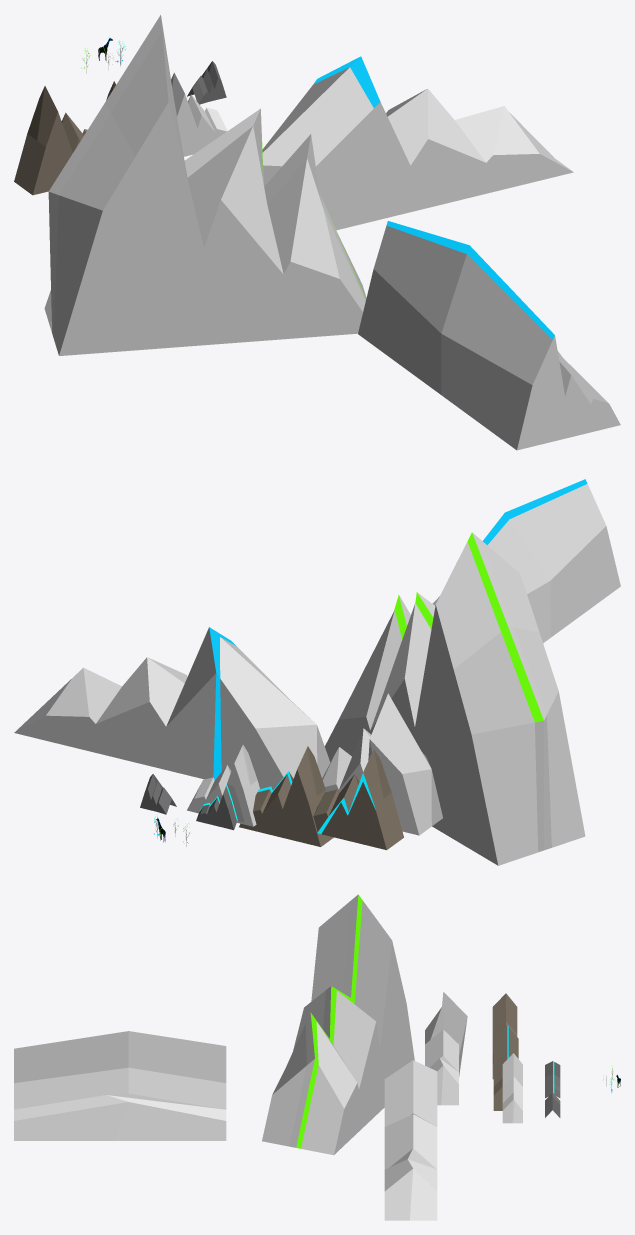
File: fantasy_Low_poly_scene_.glb
The picture shows the model from 3 angles, top to bottom: view 1: azimuth 30°, elevation 25°; view 2: azimuth 150°, elevation 25°; view 3: azimuth 270°, elevation 25°; orthographic projection. The views are drawn at different scales.
Parts seen in each view (by area): view 1: Cube.006, Cube.007, Cube.003, Cube.004, Cube.001, Cube; view 2: Cube.006, Cube.003, Cube.007, Cube.005, Cube.004, Cube.002, Cube.001, Cube; view 3: Cube.006, Cube.007, Cube.003, Cube.005, Cube.001, Cube.002, Cube.004, Cube.
Part boxes in pixels (box(x1,y1,x2,y2)): Cube.006: box(44, 15, 366, 355); Cube.007: box(358, 221, 620, 450); Cube.003: box(262, 56, 573, 230); Cube.004: box(14, 86, 87, 195); Cube.001: box(171, 72, 227, 156); Cube: box(187, 61, 226, 104); Cube.006: box(324, 532, 585, 865); Cube.003: box(14, 627, 330, 789); Cube.007: box(432, 479, 620, 643); Cube.005: box(322, 693, 442, 835); Cube.004: box(313, 749, 403, 850); Cube.002: box(239, 746, 333, 846); Cube.001: box(187, 745, 259, 826); Cube: box(140, 774, 244, 830); Cube.006: box(262, 894, 414, 1155); Cube.007: box(14, 1031, 226, 1140); Cube.003: box(384, 1060, 437, 1220); Cube.005: box(425, 992, 467, 1105); Cube.001: box(502, 1053, 522, 1123); Cube.002: box(493, 1025, 518, 1110); Cube.004: box(492, 993, 517, 1079); Cube: box(545, 1061, 560, 1117).
Bounding box in the file's own units: 111 × 59.95 × 160.
